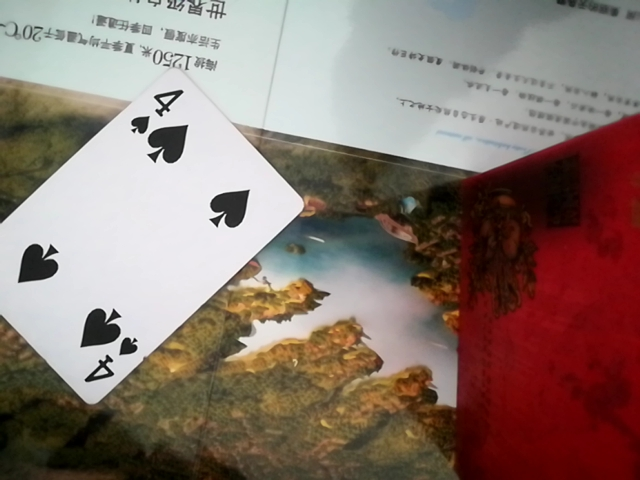ht 4: (0, 78, 309, 411)
